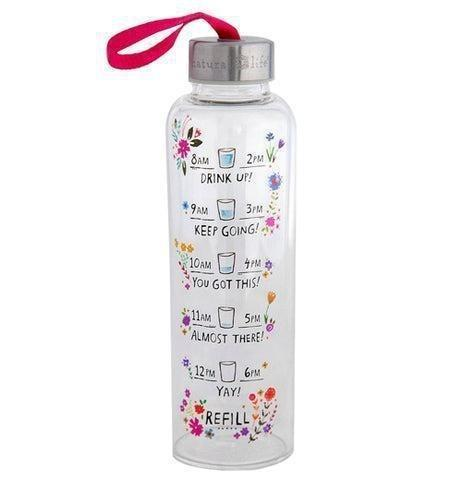gym bottle: (160, 26, 303, 474)
